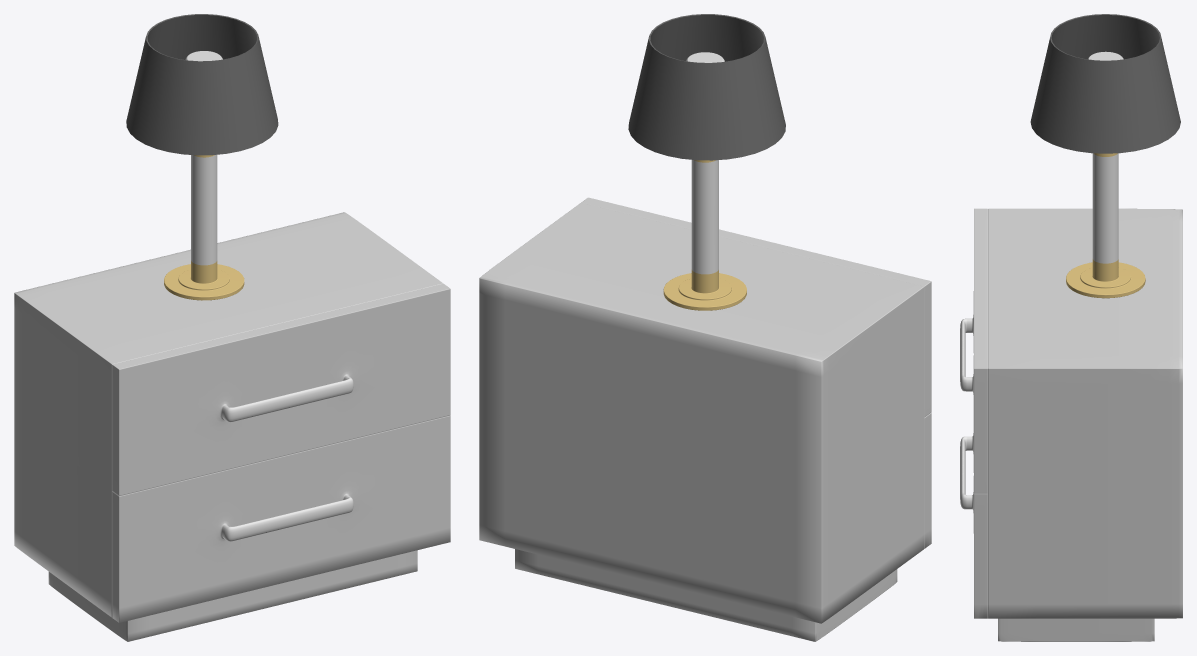
The model's file is bed side table1.fbx.
3 renders of one model, left to right at view 1: azimuth 30°, elevation 25°; view 2: azimuth 150°, elevation 25°; view 3: azimuth 270°, elevation 25°, orthographic. The views are drawn at different scales.
Parts seen in each view (by area): view 1: bedside table, Circle.001, Circle; view 2: bedside table, Circle.001, Circle; view 3: bedside table, Circle.001, Circle.
Boxes of the visible parts, x1,y1,x2,y2 form: bedside table: (14,212,450,641); Circle.001: (126,14,278,155); Circle: (164,51,244,300); bedside table: (479,197,931,641); Circle.001: (628,14,785,160); Circle: (663,52,746,310); bedside table: (960,208,1182,641); Circle.001: (1030,14,1180,153); Circle: (1066,51,1145,298).
Size of the model in its own units: 51.67 by 79.38 by 30.41.
